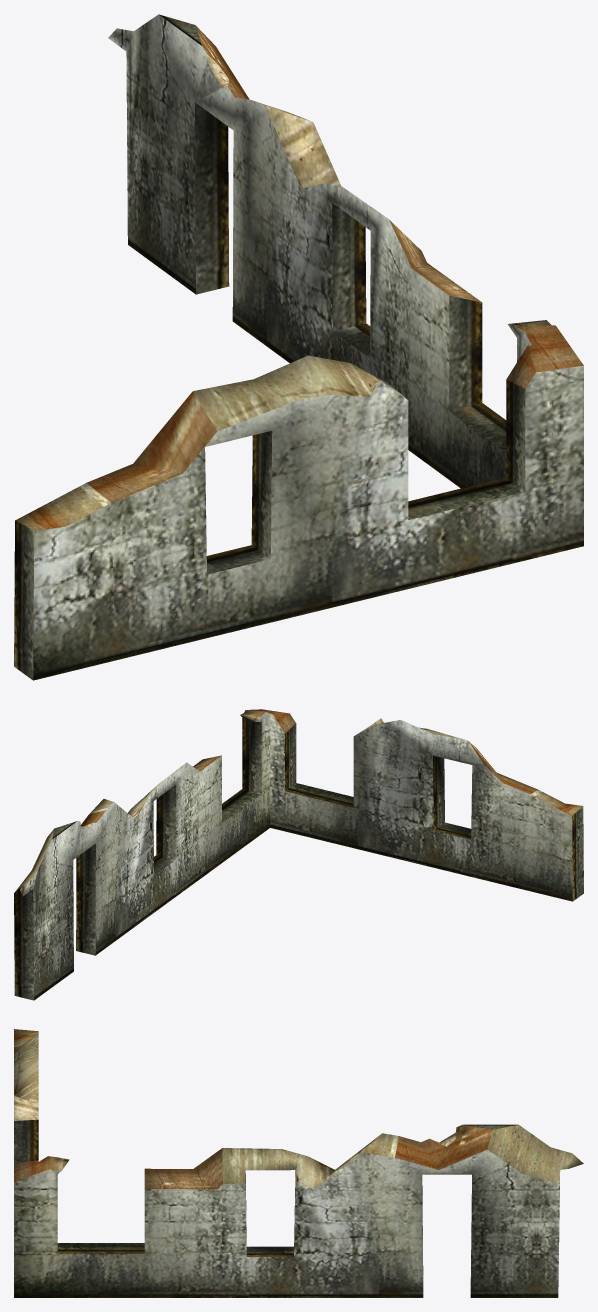
Rendered from destroyed_walls_05.glb.
3 views of the same model, one above another, from view 1: azimuth 30°, elevation 25°; view 2: azimuth 150°, elevation 25°; view 3: azimuth 270°, elevation 25° (orthographic). The views are drawn at different scales.
Visible parts, largest first — view 1: wall.jpg__; view 2: wall.jpg__; view 3: wall.jpg__.
Boxes of the visible parts, left/top/right/bottom form: wall.jpg__: left=14, top=14, right=583, bottom=680; wall.jpg__: left=14, top=709, right=583, bottom=1000; wall.jpg__: left=14, top=1029, right=583, bottom=1297.
Size of the model in its own units: 9.4 by 4.12 by 13.09.
1 material, 1 textured.
